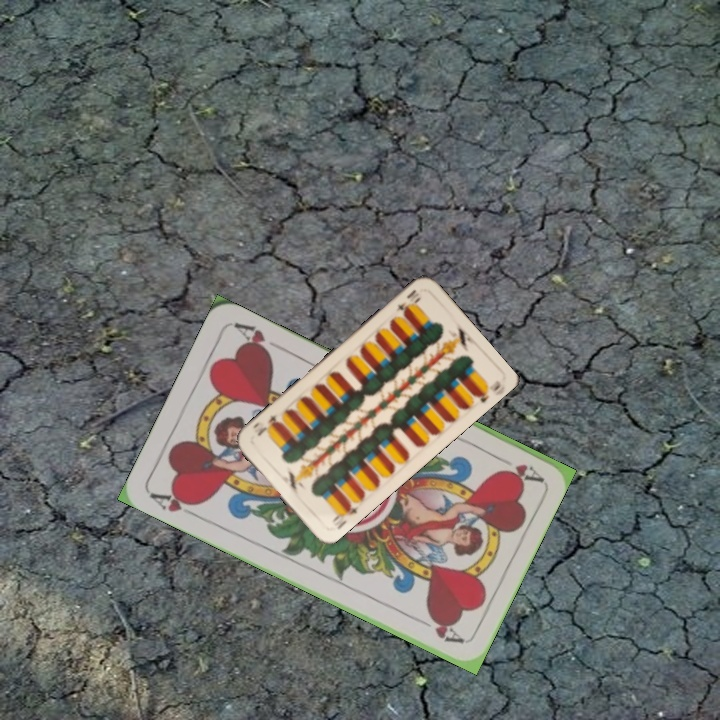E10: (328, 498, 361, 532), (392, 285, 423, 317)
HA: (146, 487, 204, 521), (488, 450, 544, 485)
